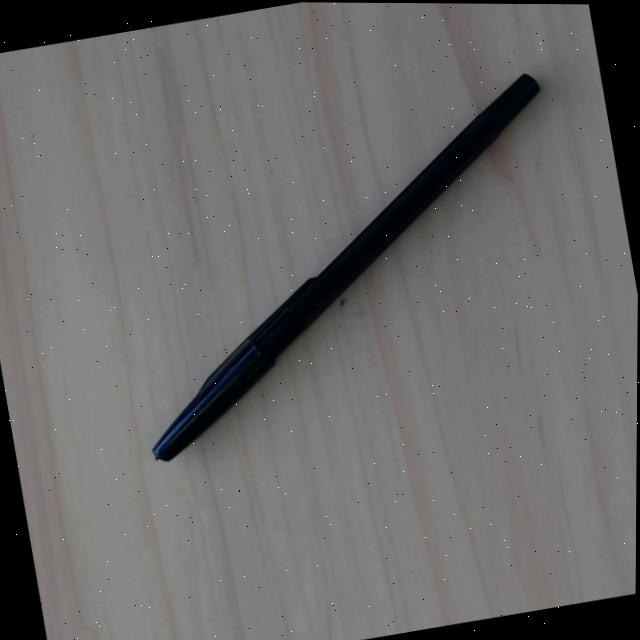Pulpen-Hitam: (142, 61, 545, 471)
